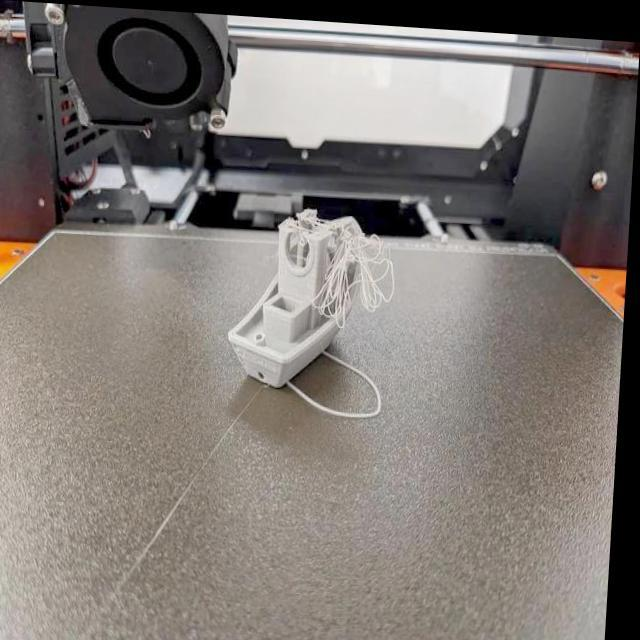spaghetti: (323, 225, 400, 322)
